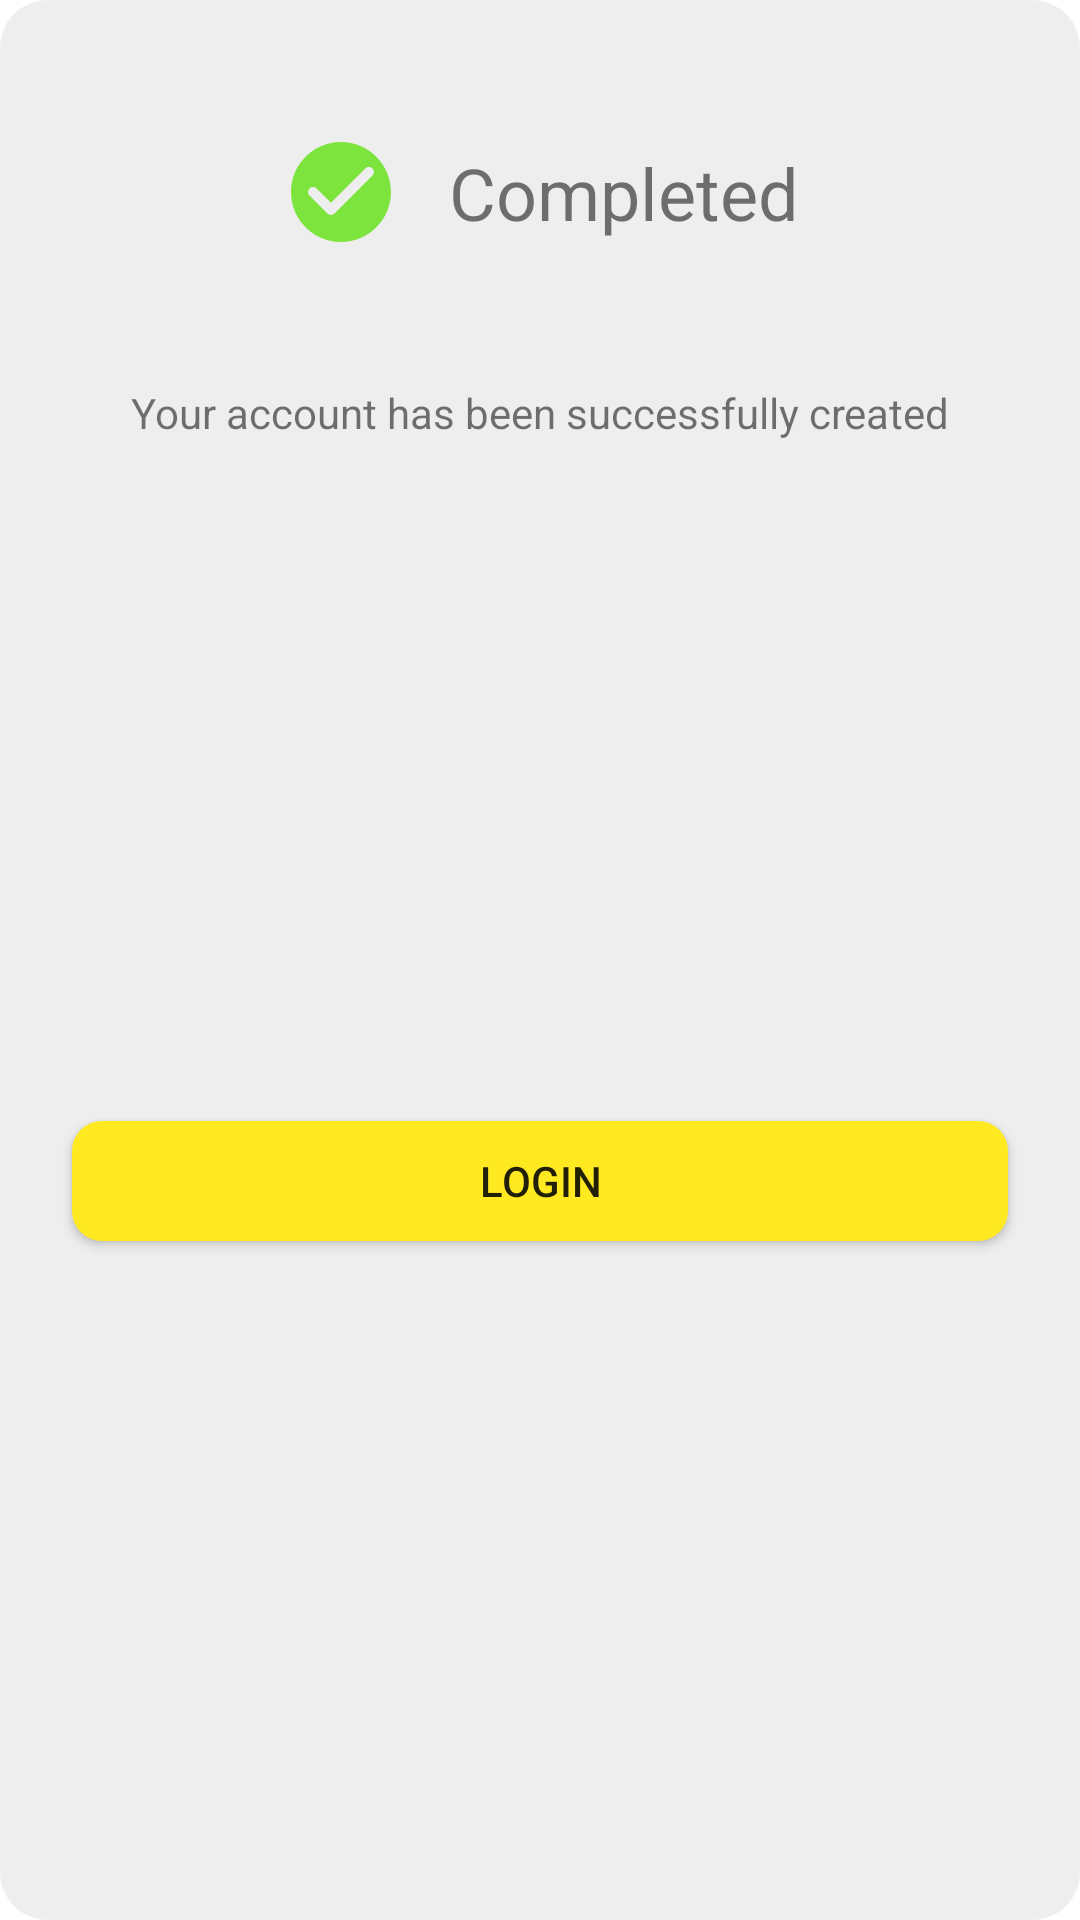

Icons on this 1080 × 1920 Android screen, each with its box as (x1, y1, x2, y2):
check circle: (291, 142, 391, 242)
